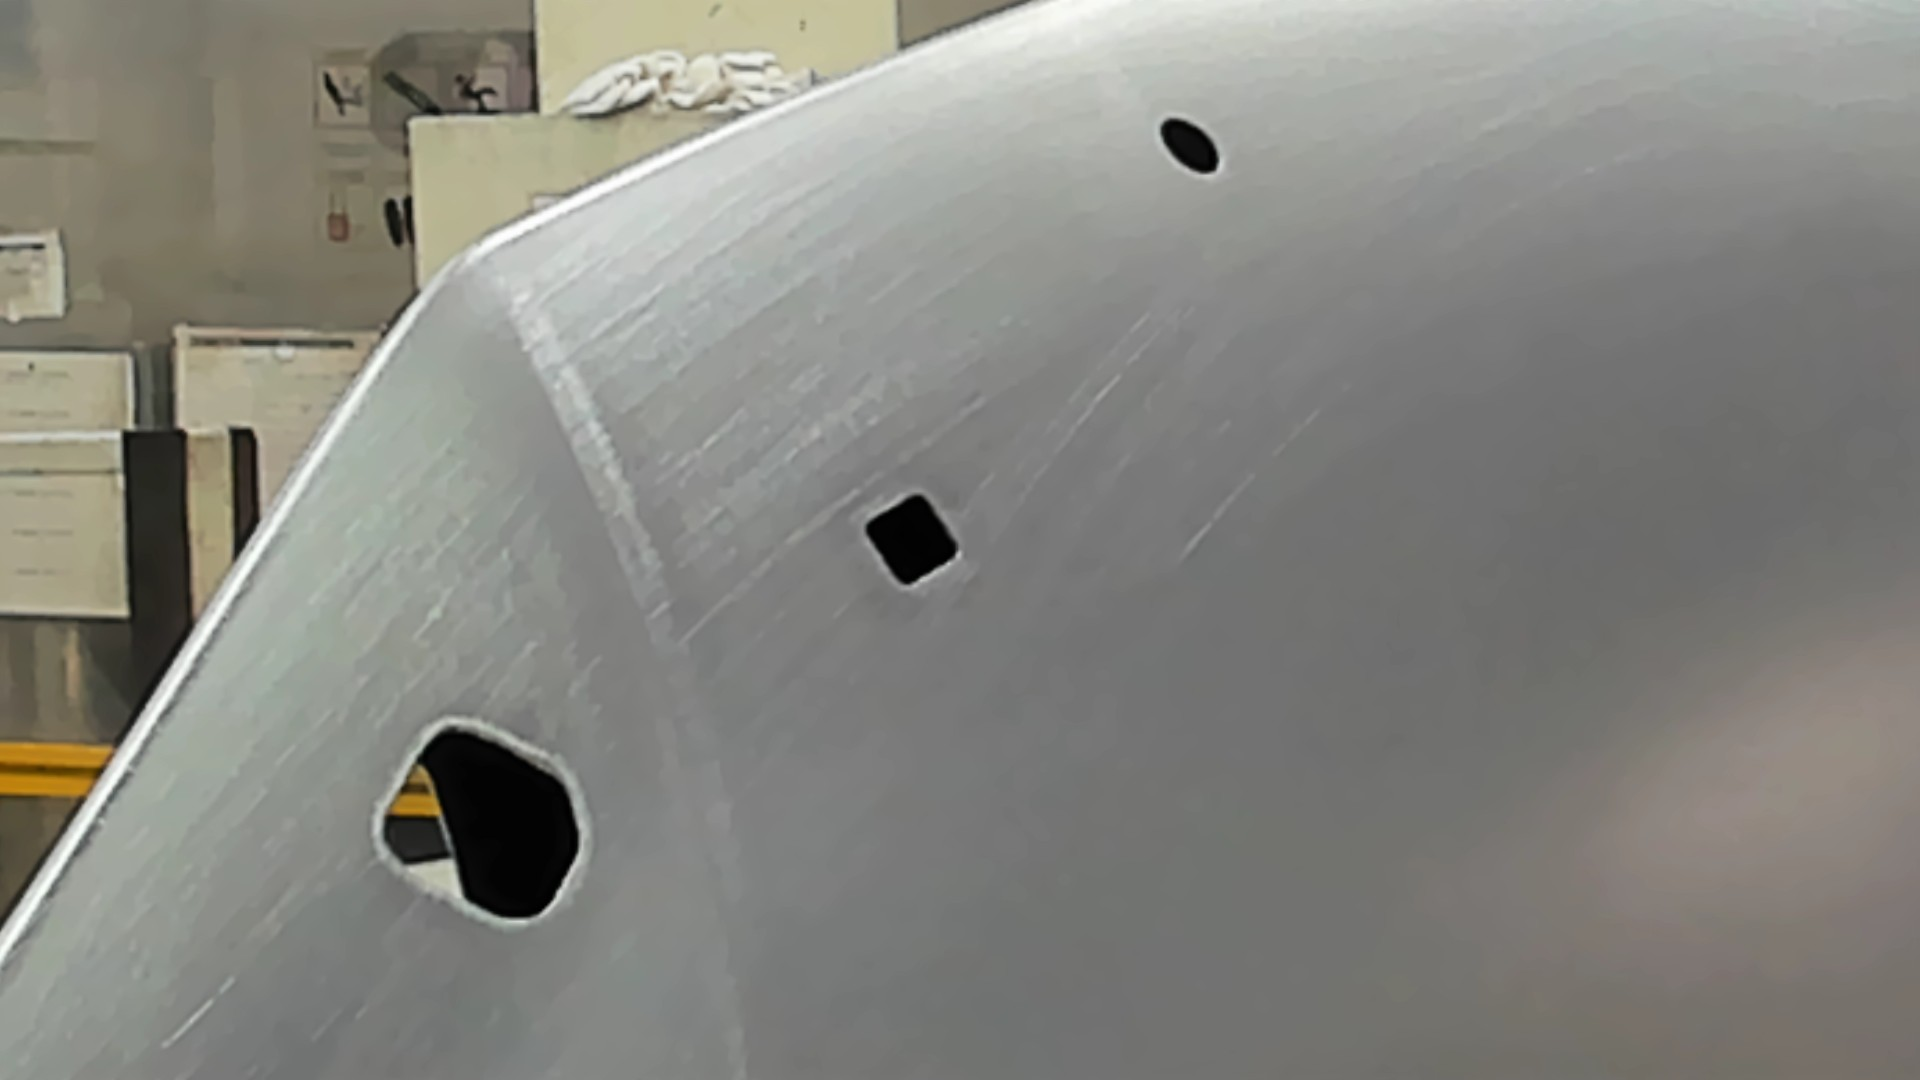capo: (975, 183, 1920, 1080)
chico: (1151, 109, 1228, 178)
grande: (371, 709, 595, 938)
mediano: (857, 489, 971, 592)
